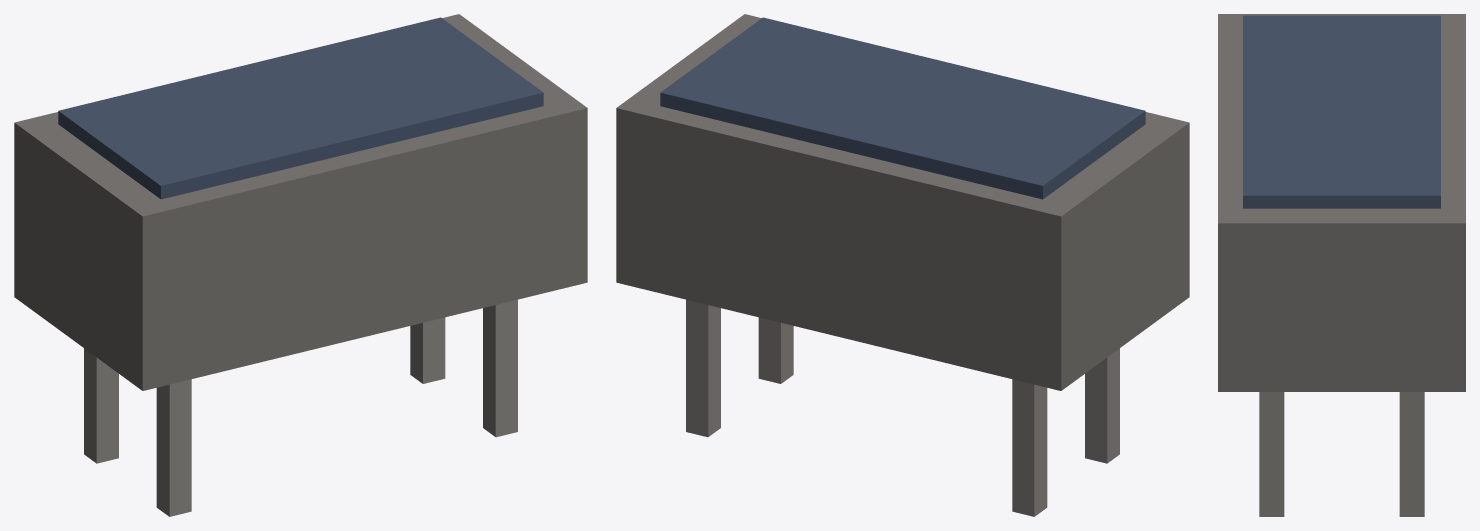
File: churrasqueira.glb
3 views of the same model, side by side, from view 1: azimuth 30°, elevation 25°; view 2: azimuth 150°, elevation 25°; view 3: azimuth 270°, elevation 25° (orthographic). The views are drawn at different scales.
Bounding box in the file's own units: 1.2 × 0.88 × 0.6.
